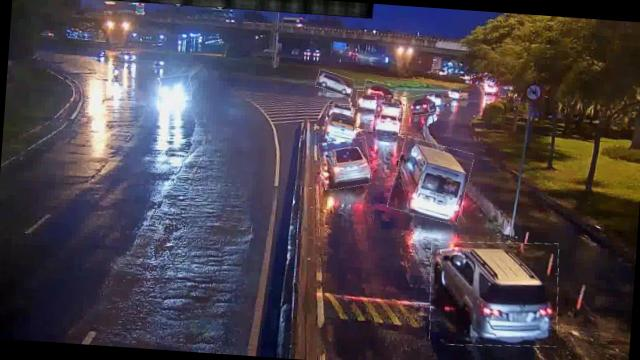Bus: (389, 138, 472, 222), (323, 105, 357, 142), (372, 104, 400, 136)
Car: (426, 236, 562, 350), (316, 136, 372, 191), (156, 74, 192, 103), (316, 71, 354, 95), (362, 80, 395, 102), (406, 92, 436, 116), (374, 94, 404, 118), (356, 90, 381, 110)
